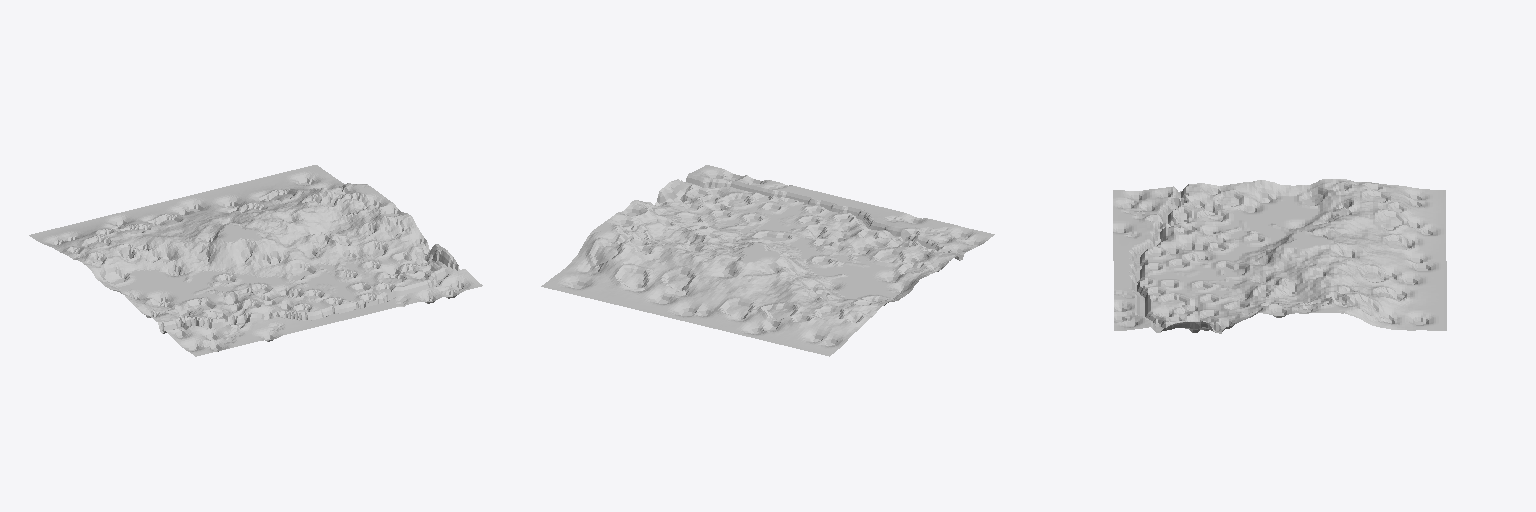
The model's file is suelo.obj.
The picture shows the model from 3 angles: view 1: azimuth 30°, elevation 25°; view 2: azimuth 150°, elevation 25°; view 3: azimuth 270°, elevation 25°; orthographic projection.
Parts seen in each view (by area): view 1: Suelo; view 2: Suelo; view 3: Suelo.
Boxes of the visible parts, <box> form: Suelo: <box>29,165,482,356</box>; Suelo: <box>541,165,994,356</box>; Suelo: <box>1113,179,1446,333</box>.
Bounding box in the file's own units: 372 × 34.81 × 372.